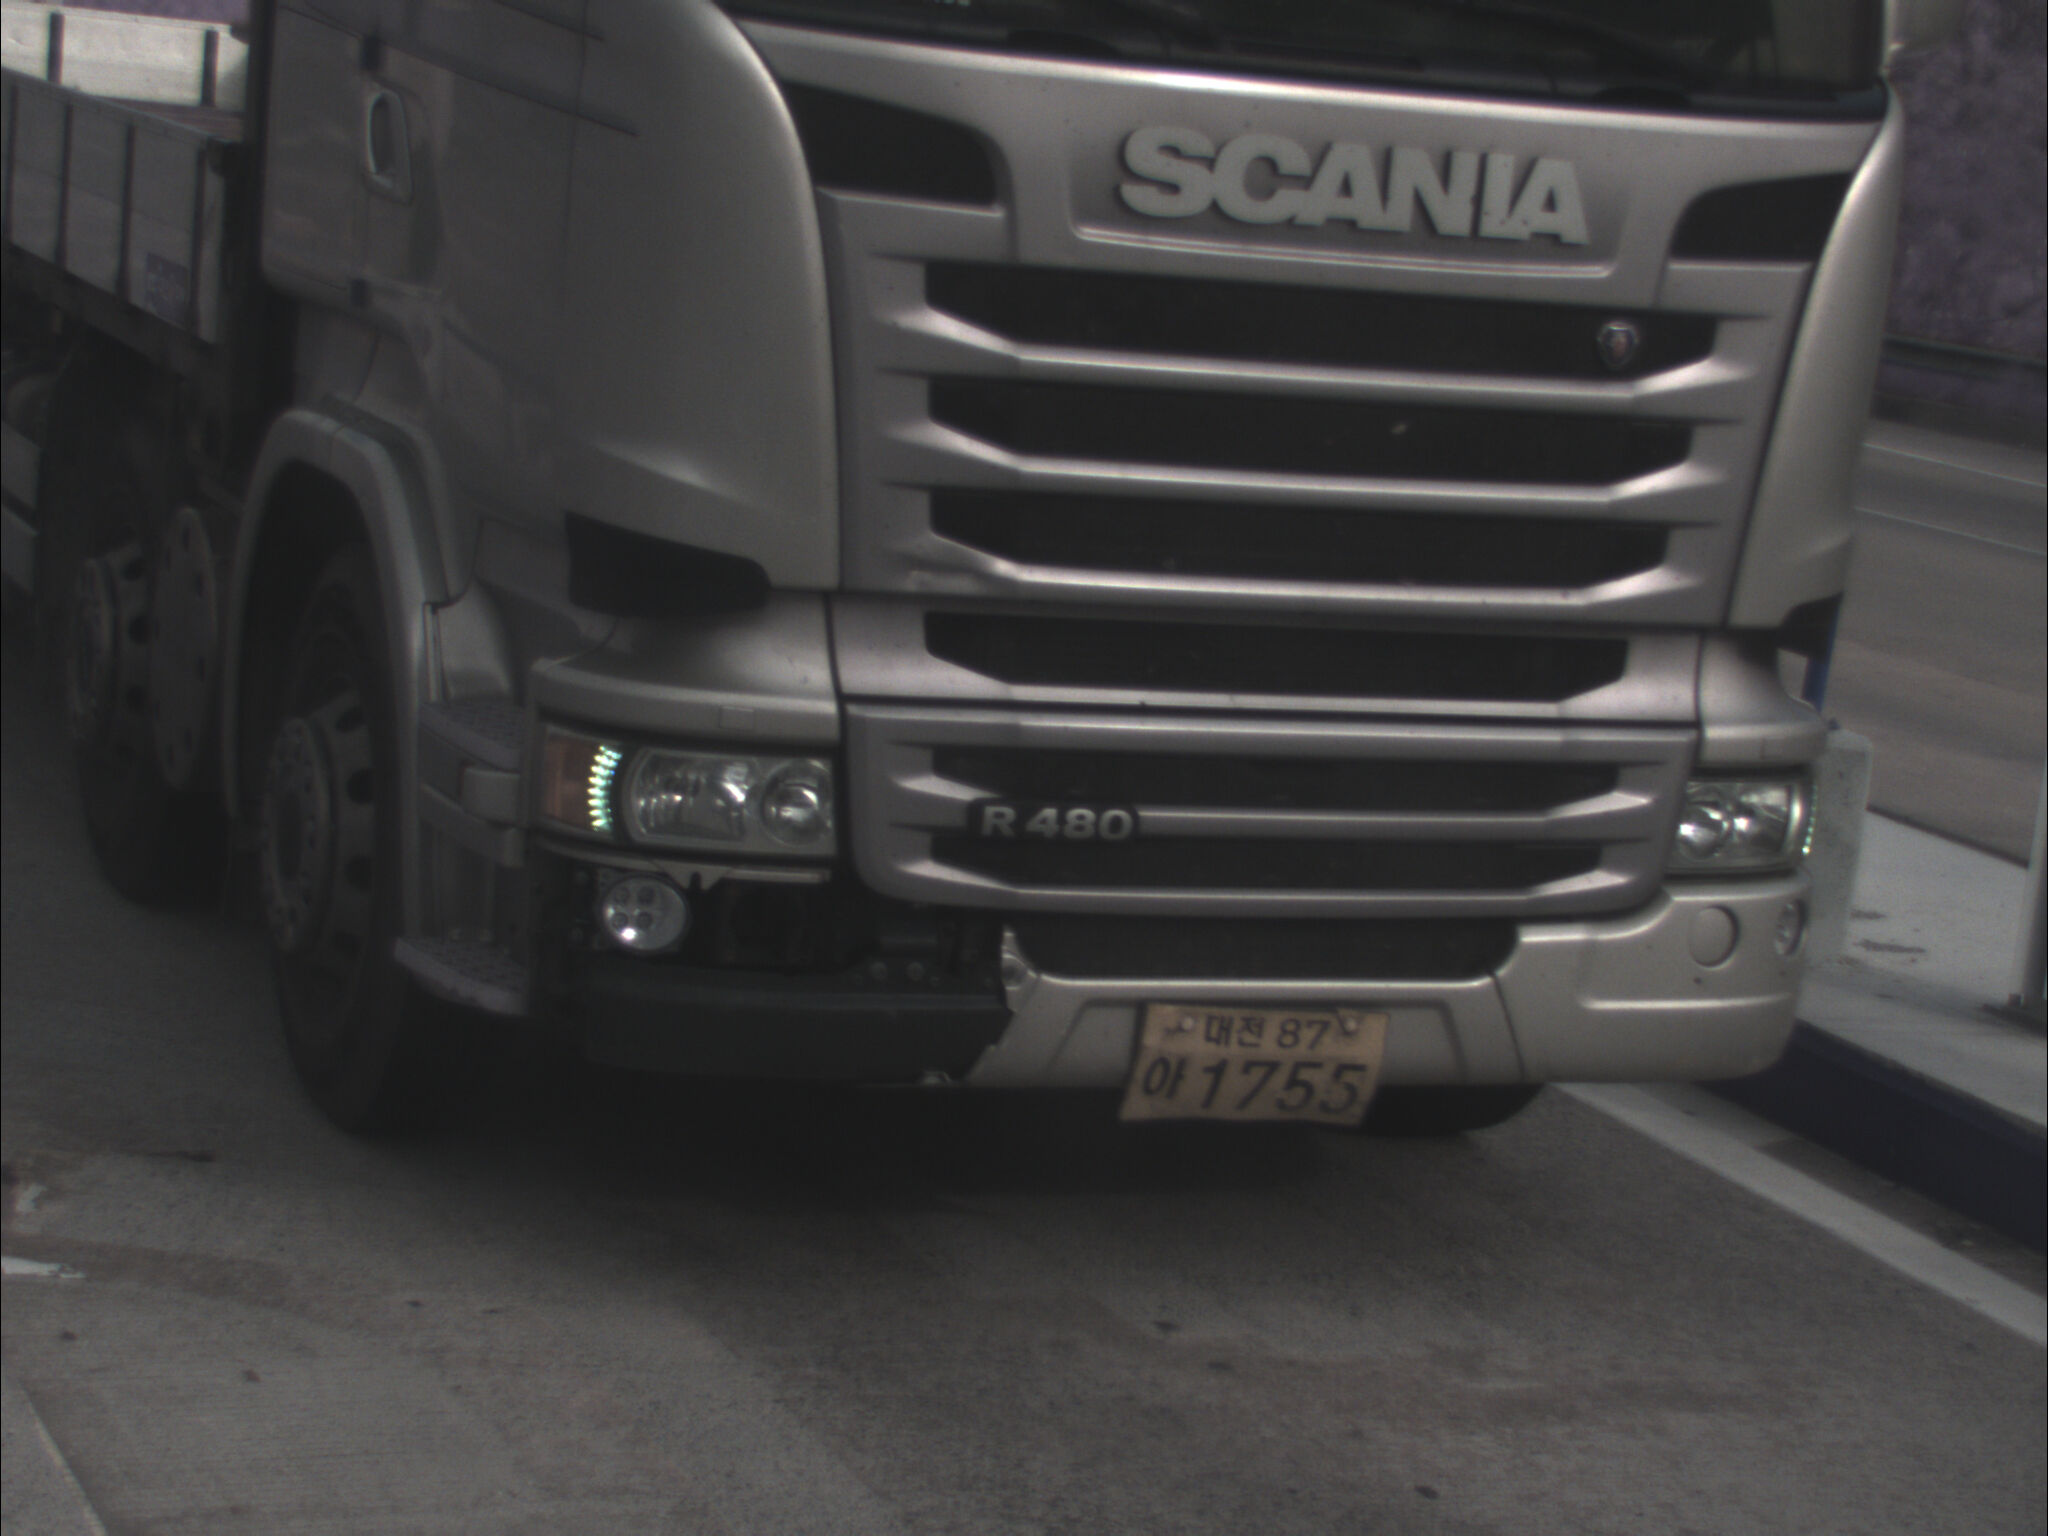car: (1, 1, 1918, 1161)
plate: (1103, 991, 1394, 1134)
